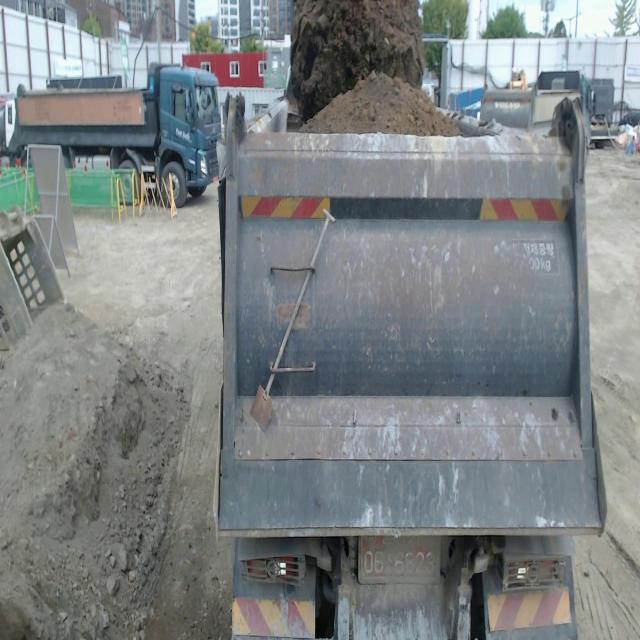red-sand: (289, 0, 424, 123), (299, 71, 459, 136)
white-sand: (0, 305, 190, 639)
